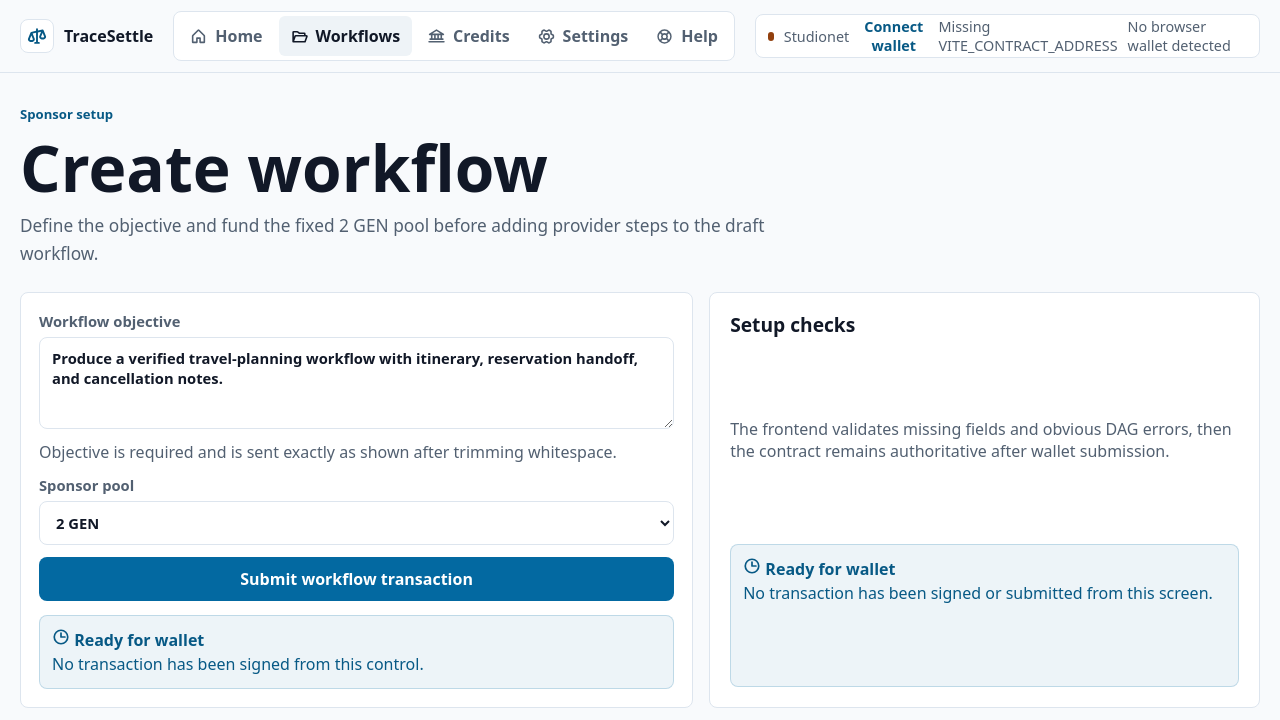
Test: TraceSettle route map › blocks workflow creation until the objective is present
expect the button "Submit workflow transaction" is enabled: met, box [39,556,674,600]
Clear the text box labelled "Workflow objective" at (357, 382), box [39,336,674,428]
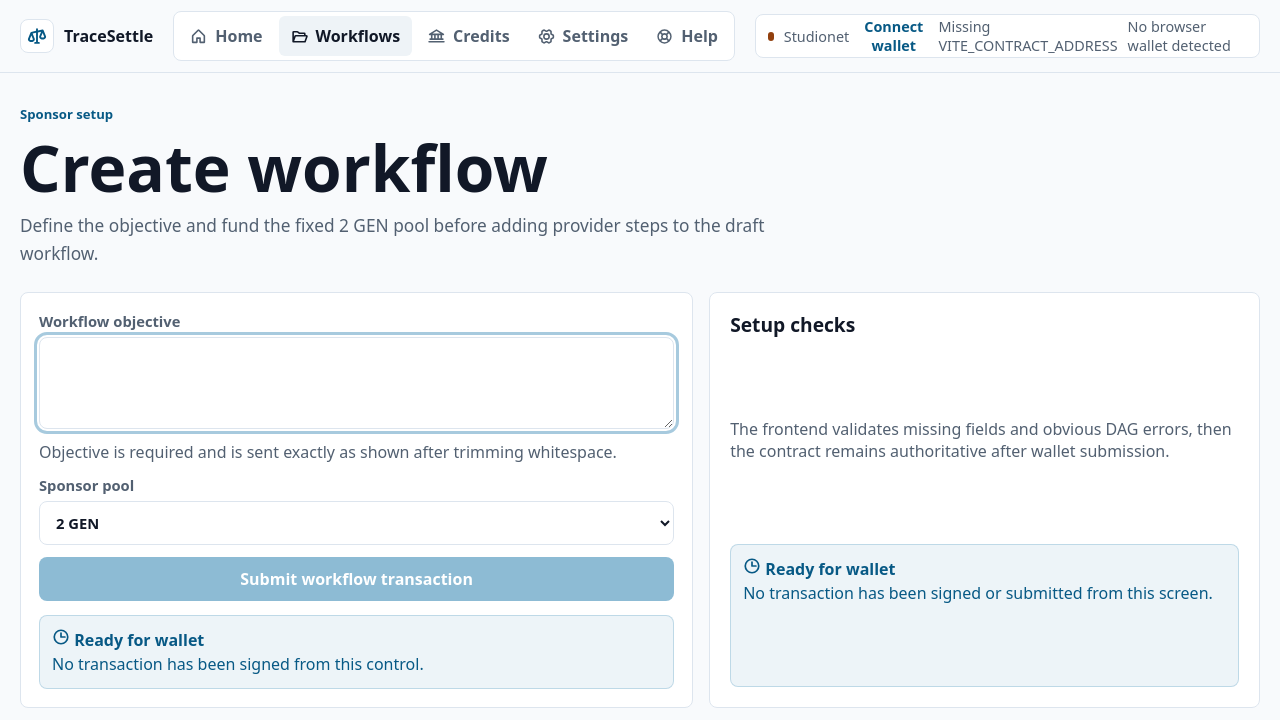
expect the button "Submit workflow transaction" is disabled: met, box [39,556,674,600]
Type "Settle a bounded provider workflow" into the text box labelled "Workflow objective" at (357, 382), box [39,336,674,428]
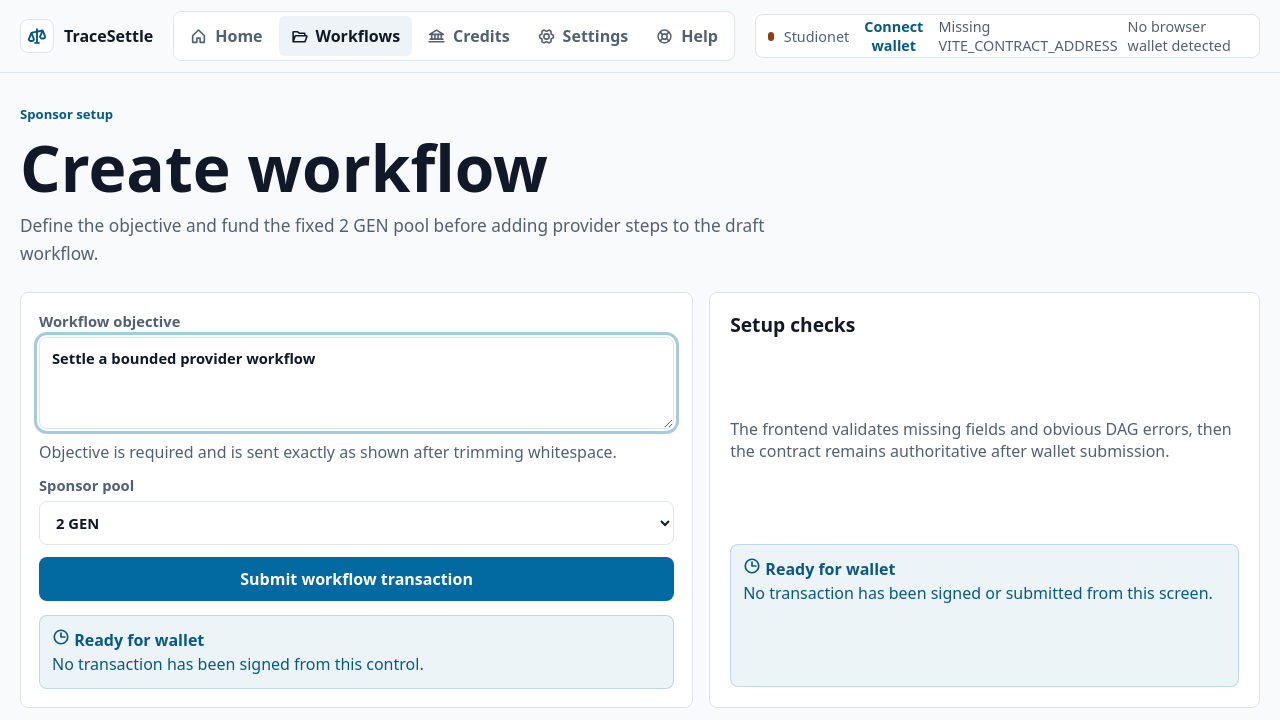
expect the button "Submit workflow transaction" is enabled: met, box [39,556,674,600]
